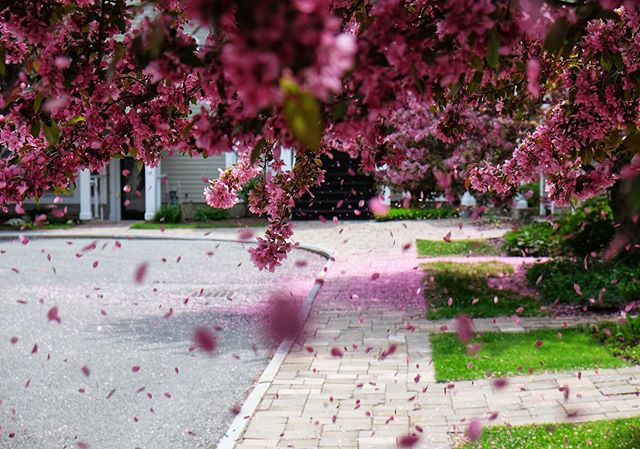flowers: (1, 1, 611, 215)
sidewalk: (227, 219, 423, 446)
street: (1, 234, 290, 449)
